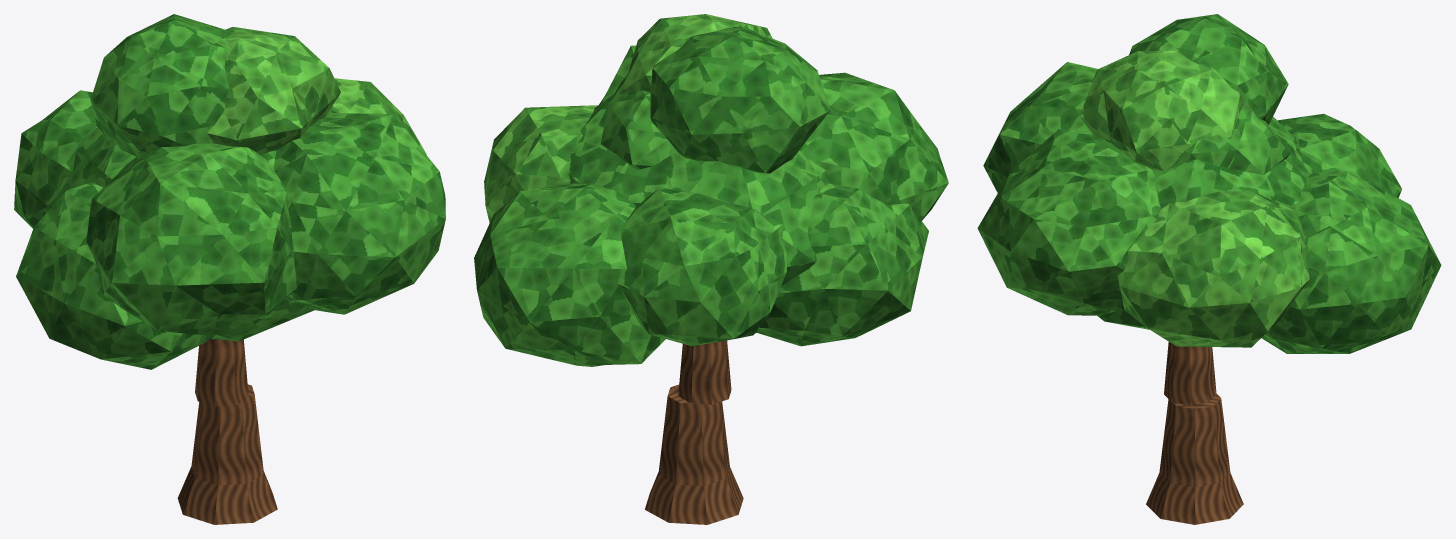
File: tree_oak.glb
3 views of the same model, side by side, from view 1: azimuth 30°, elevation 25°; view 2: azimuth 150°, elevation 25°; view 3: azimuth 270°, elevation 25° (orthographic). The views are drawn at different scales.
Parts seen in each view (by area): view 1: tree_oak; view 2: tree_oak; view 3: tree_oak.
Boxes of the visible parts, bbox=[...] form: tree_oak: bbox=[14, 14, 445, 524]; tree_oak: bbox=[474, 14, 948, 524]; tree_oak: bbox=[977, 14, 1441, 524].
Size of the model in its own units: 4.53 by 5.32 by 4.82.
3 materials, 3 textured.
